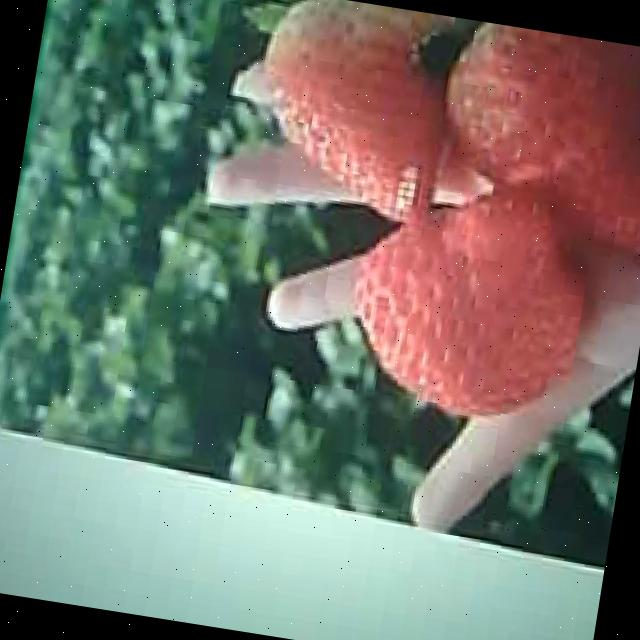strawberry: (338, 175, 596, 428), (243, 0, 462, 229), (434, 20, 640, 254)
